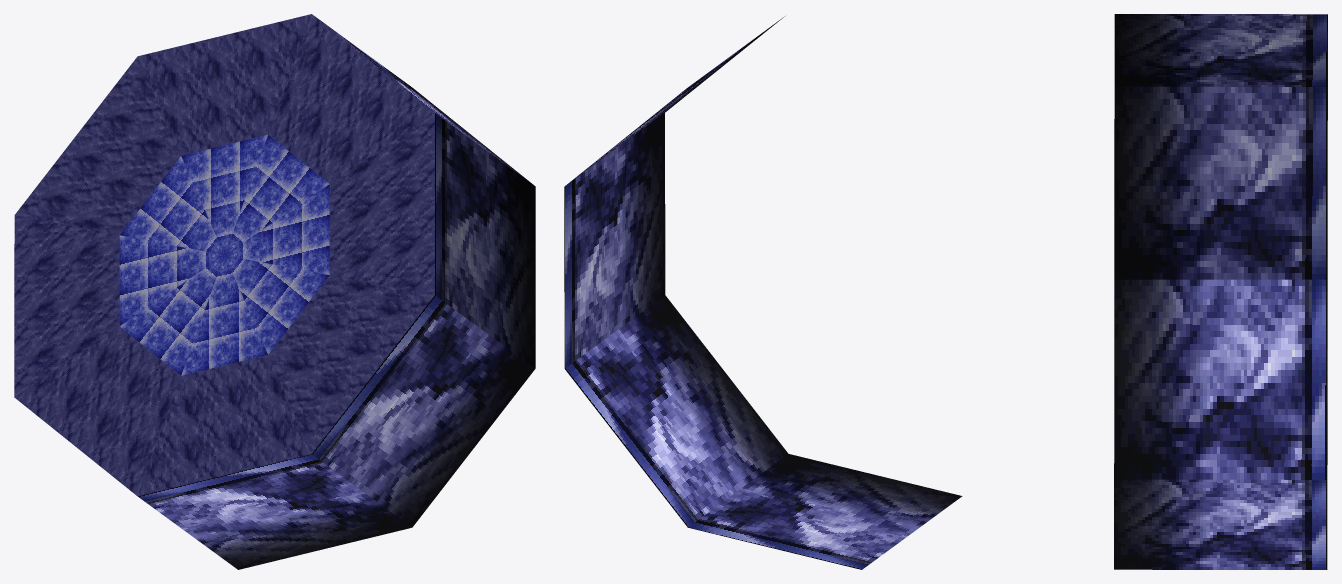
The model's file is Bowser Stadium 1.glb.
3 renders of one model, left to right at view 1: azimuth 30°, elevation 25°; view 2: azimuth 150°, elevation 25°; view 3: azimuth 270°, elevation 25°, orthographic. The views are drawn at different scales.
Size of the model in its own units: 0.1442 by 0.1442 by 0.0599.
Materials: 3 (3 with a texture image).
